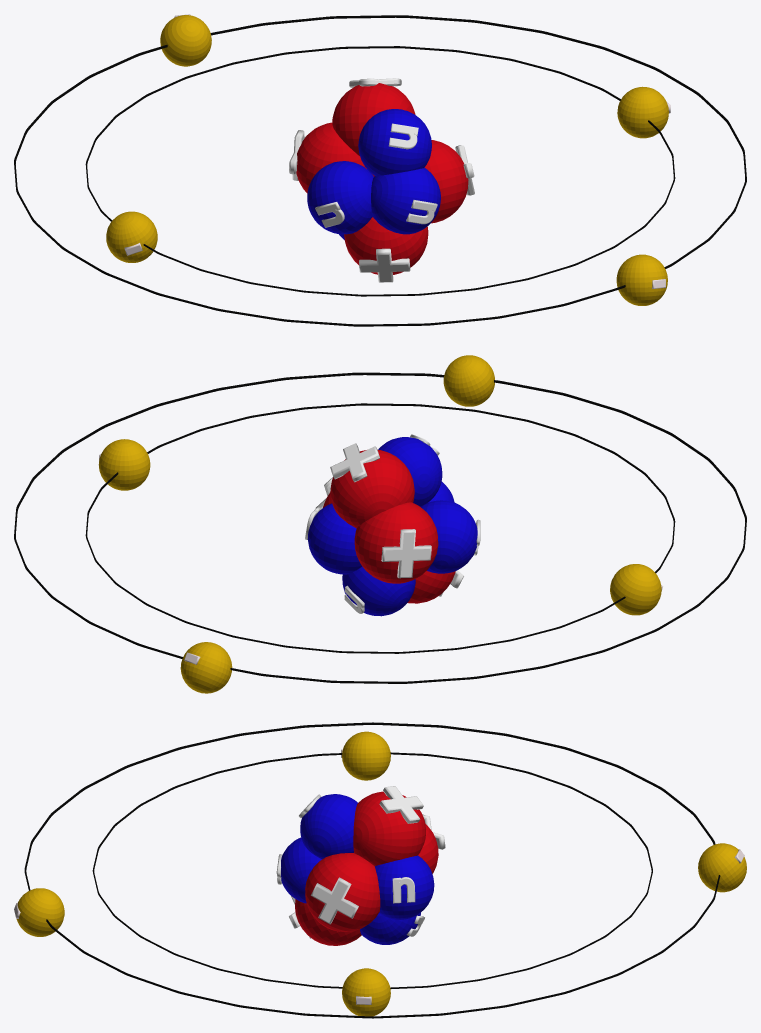
3 views of the same model, one above another, from view 1: azimuth 30°, elevation 25°; view 2: azimuth 150°, elevation 25°; view 3: azimuth 270°, elevation 25° (orthographic). The views are drawn at different scales.
Visible parts, largest first — view 1: Circle.001, Sphere.004, Sphere.008, Sphere.012, Circle, Sphere.007, Sphere.011, Sphere.005, Sphere, Sphere.010, Sphere.003, Sphere.006 (+3 smaller); view 2: Circle.001, Sphere.005, Sphere.007, Circle, Sphere.004, Sphere.001, Sphere.008, Sphere.006, Sphere.002, Sphere.003, Sphere.009, Sphere.010 (+3 smaller); view 3: Circle.001, Sphere, Sphere.007, Sphere.008, Circle, Sphere.001, Sphere.002, Sphere.006, Sphere.010, Sphere.003, Sphere.012, Sphere.011 (+4 smaller).
Boxes of the visible parts, x1=… form: Circle.001: x1=14, y1=15, x2=746, y2=326; Sphere.004: x1=307, y1=161, x2=373, y2=234; Sphere.008: x1=358, y1=109, x2=431, y2=176; Sphere.012: x1=371, y1=167, x2=440, y2=234; Circle: x1=85, y1=46, x2=675, y2=296; Sphere.007: x1=332, y1=83, x2=415, y2=155; Sphere.011: x1=344, y1=217, x2=428, y2=274; Sphere.005: x1=296, y1=122, x2=374, y2=193; Sphere: x1=424, y1=140, x2=468, y2=223; Sphere.010: x1=160, y1=15, x2=211, y2=66; Sphere.003: x1=617, y1=86, x2=668, y2=138; Sphere.006: x1=616, y1=254, x2=667, y2=305; Circle.001: x1=14, y1=372, x2=746, y2=683; Sphere.005: x1=354, y1=502, x2=438, y2=583; Sphere.007: x1=330, y1=450, x2=414, y2=528; Circle: x1=85, y1=403, x2=675, y2=653; Sphere.004: x1=421, y1=500, x2=477, y2=573; Sphere.001: x1=307, y1=503, x2=361, y2=574; Sphere.008: x1=378, y1=437, x2=442, y2=506; Sphere.006: x1=443, y1=355, x2=494, y2=406; Sphere.002: x1=610, y1=564, x2=661, y2=615; Sphere.003: x1=98, y1=439, x2=150, y2=490; Sphere.009: x1=342, y1=566, x2=415, y2=616; Sphere.010: x1=180, y1=642, x2=232, y2=693; Circle.001: x1=24, y1=722, x2=720, y2=1018; Sphere: x1=305, y1=853, x2=380, y2=931; Sphere.007: x1=353, y1=791, x2=425, y2=865; Sphere.008: x1=300, y1=794, x2=357, y2=859; Circle: x1=92, y1=752, x2=652, y2=988; Sphere.001: x1=375, y1=855, x2=434, y2=919; Sphere.002: x1=342, y1=731, x2=390, y2=780; Sphere.006: x1=16, y1=888, x2=64, y2=936; Sphere.010: x1=698, y1=843, x2=746, y2=892; Sphere.003: x1=342, y1=968, x2=390, y2=1016; Sphere.012: x1=281, y1=837, x2=321, y2=903; Sphere.011: x1=295, y1=899, x2=361, y2=945.
Bounding box in the file's own units: 71.62 × 18.27 × 75.34.
